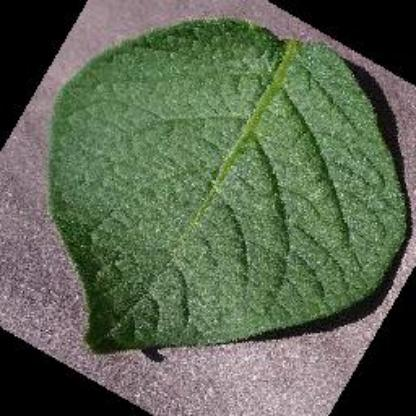Healthy-plant: (44, 15, 410, 357)
